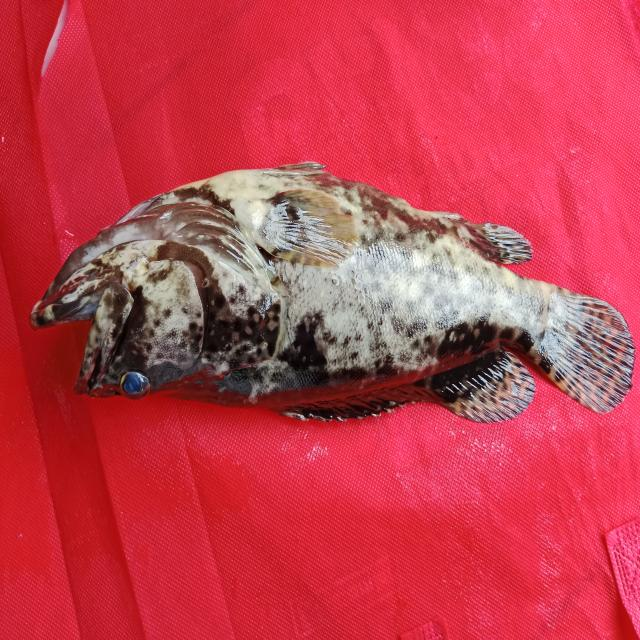ikan: (26, 145, 631, 449)
